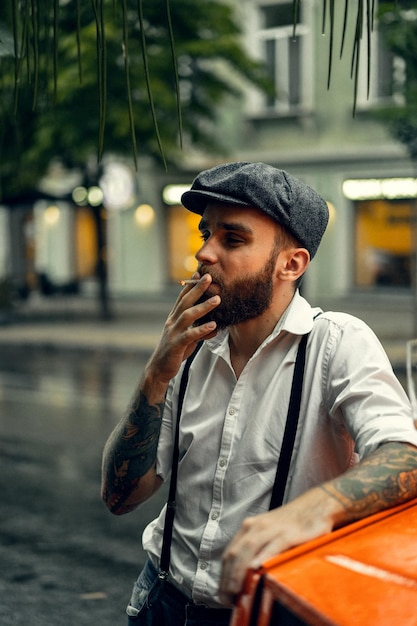cigarette: (179, 276, 211, 285)
